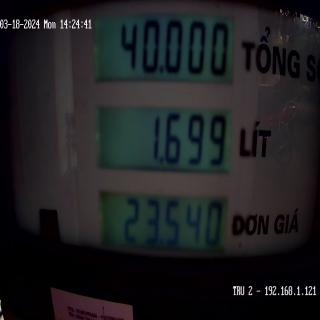screen: (90, 3, 239, 280)
